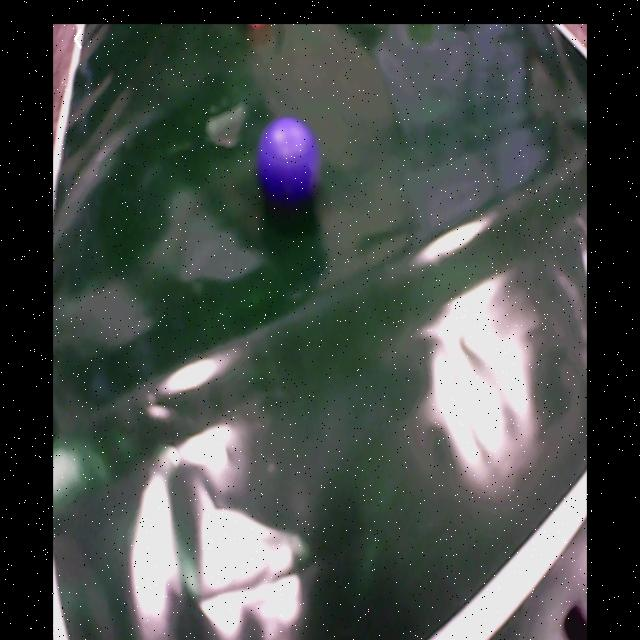ball: (260, 118, 321, 204)
